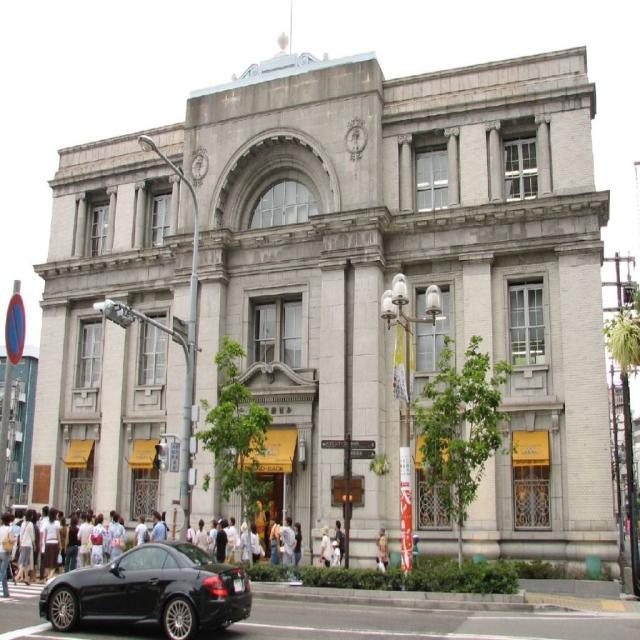car: (43, 543, 244, 636)
